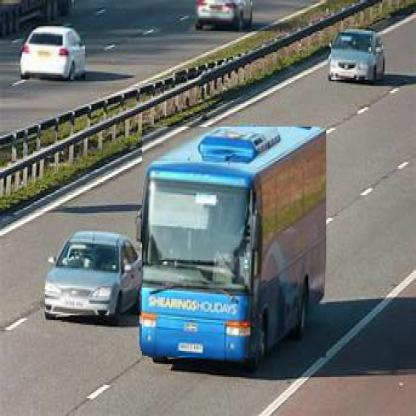bus: (143, 128, 328, 360)
car: (46, 225, 143, 318), (22, 24, 87, 82), (332, 34, 386, 83), (193, 3, 255, 34)
